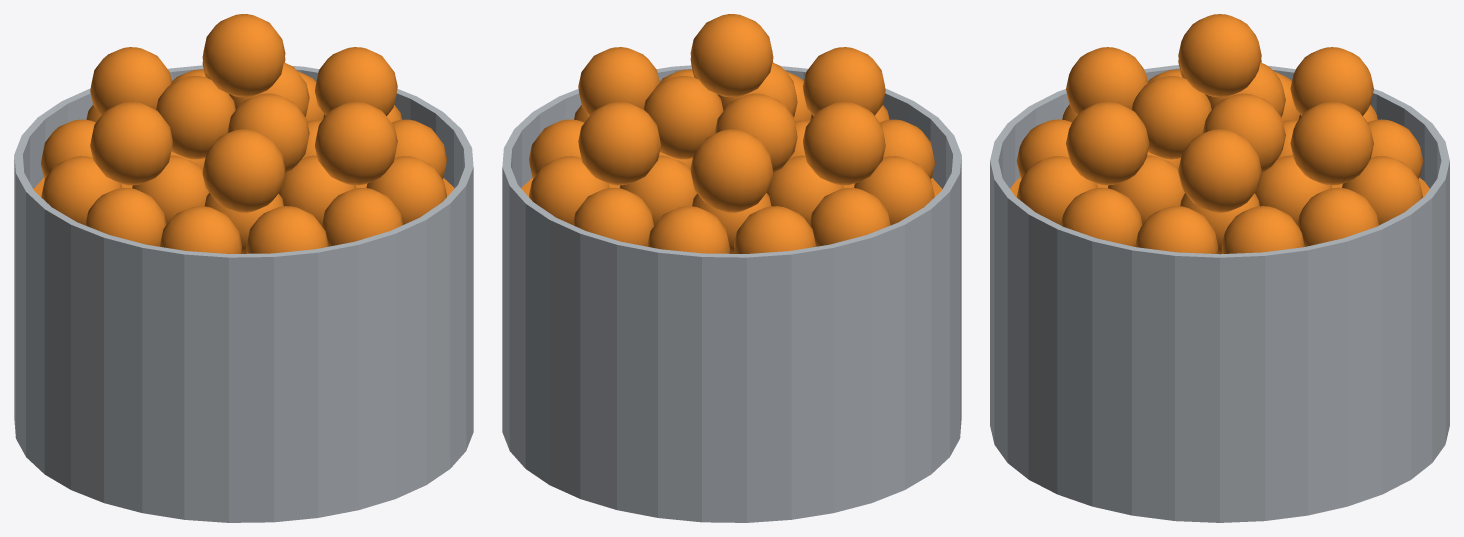
Rendered from BallContainer.fbx.
The picture shows the model from 3 angles, left to right: view 1: azimuth 30°, elevation 25°; view 2: azimuth 150°, elevation 25°; view 3: azimuth 270°, elevation 25°; orthographic projection.
Visible parts, largest first — view 1: Container_Balls; view 2: Container_Balls; view 3: Container_Balls.
Boxes of the visible parts, bbox=[...] form: Container_Balls: bbox=[14, 14, 473, 522]; Container_Balls: bbox=[502, 14, 961, 522]; Container_Balls: bbox=[990, 14, 1449, 522].
Size of the model in its own units: 0.22 by 0.2153 by 0.22.
